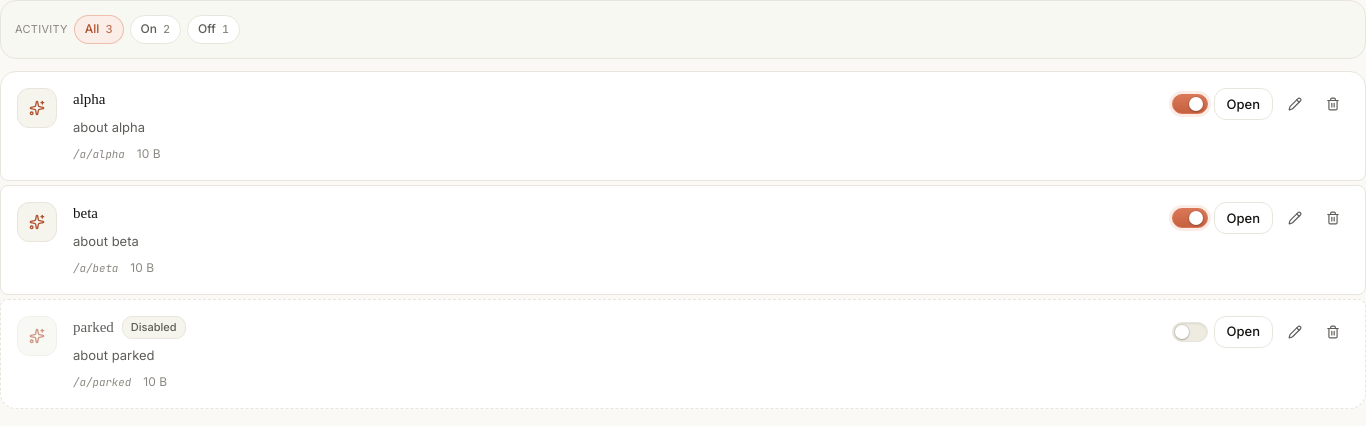
Test: SkillsTab › narrows the agent skills to what is switched off
Expected: the button "All 3" is shown, top-left (74, 15), bottom-right (124, 44)
Expected: the button "On 2" is shown, top-left (130, 15), bottom-right (181, 44)
Click the button "Off 1" at [214, 29], box top-left (187, 15), bottom-right (240, 44)
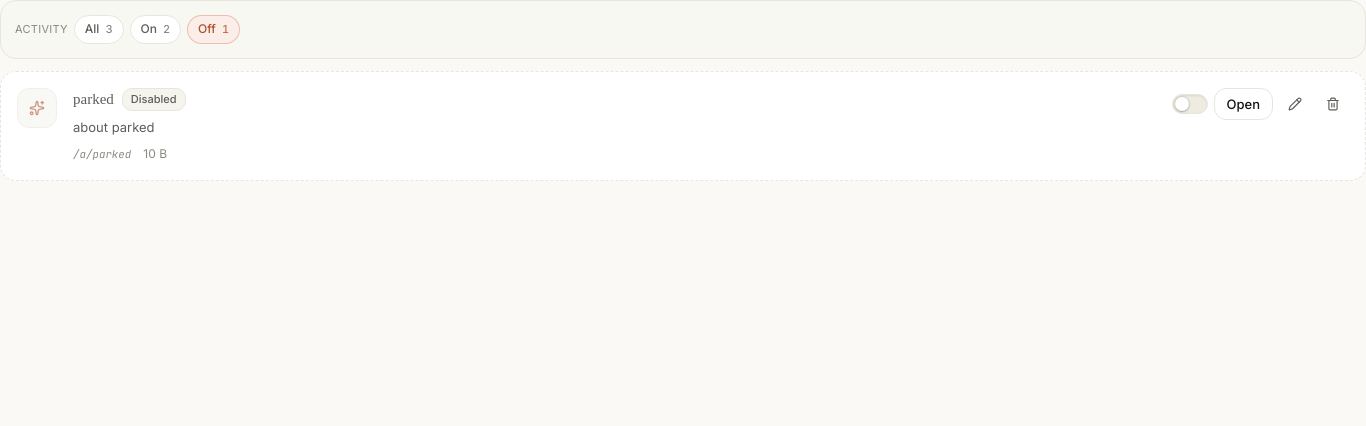
Expected: the button "parked" is shown, top-left (17, 88), bottom-right (186, 161)
Expected: the button "alpha" is gone
Click the button "On 2" at [155, 29], box top-left (130, 15), bottom-right (181, 44)
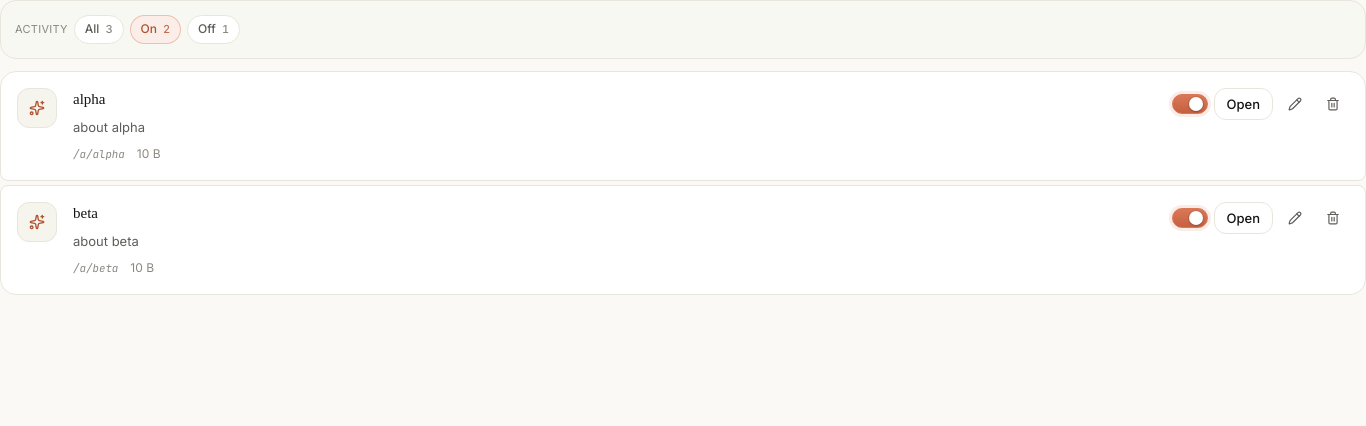
Expected: the button "alpha about alpha /a/alpha 10 B" is shown, top-left (17, 88), bottom-right (160, 161)
Expected: the button "parked" is gone
